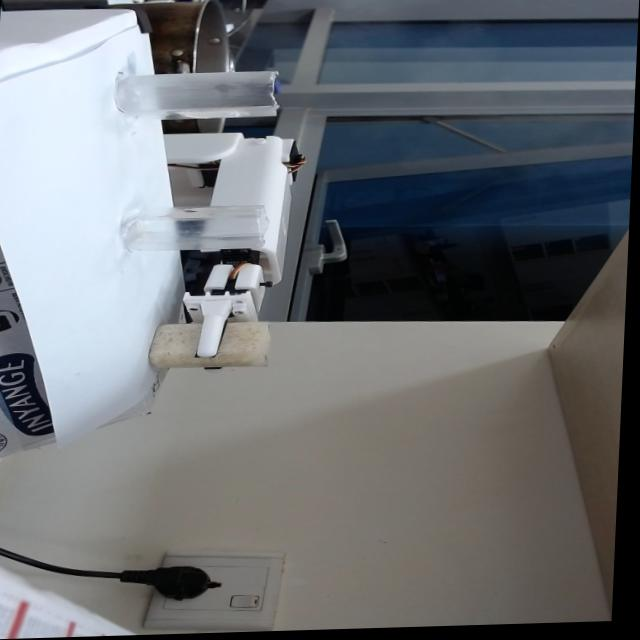cooking_pot: (107, 0, 234, 78)
raw_rice: (150, 323, 274, 372)
